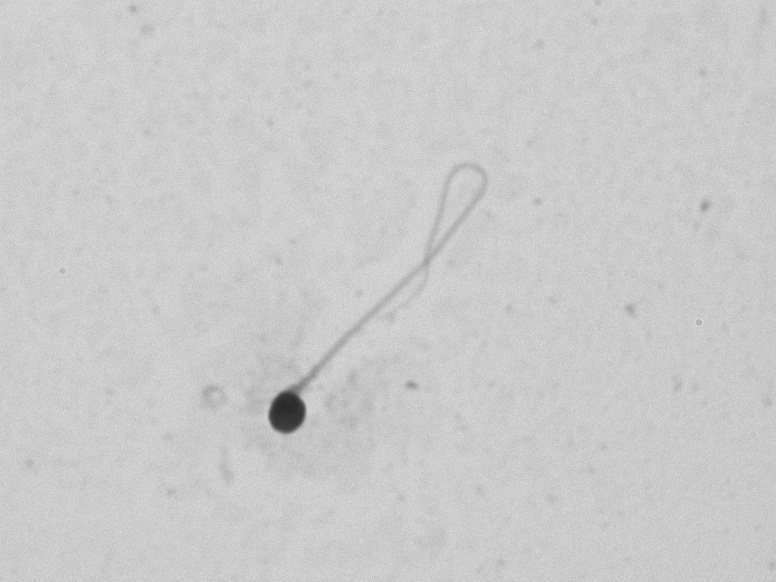Abnormal: (227, 129, 500, 473)
